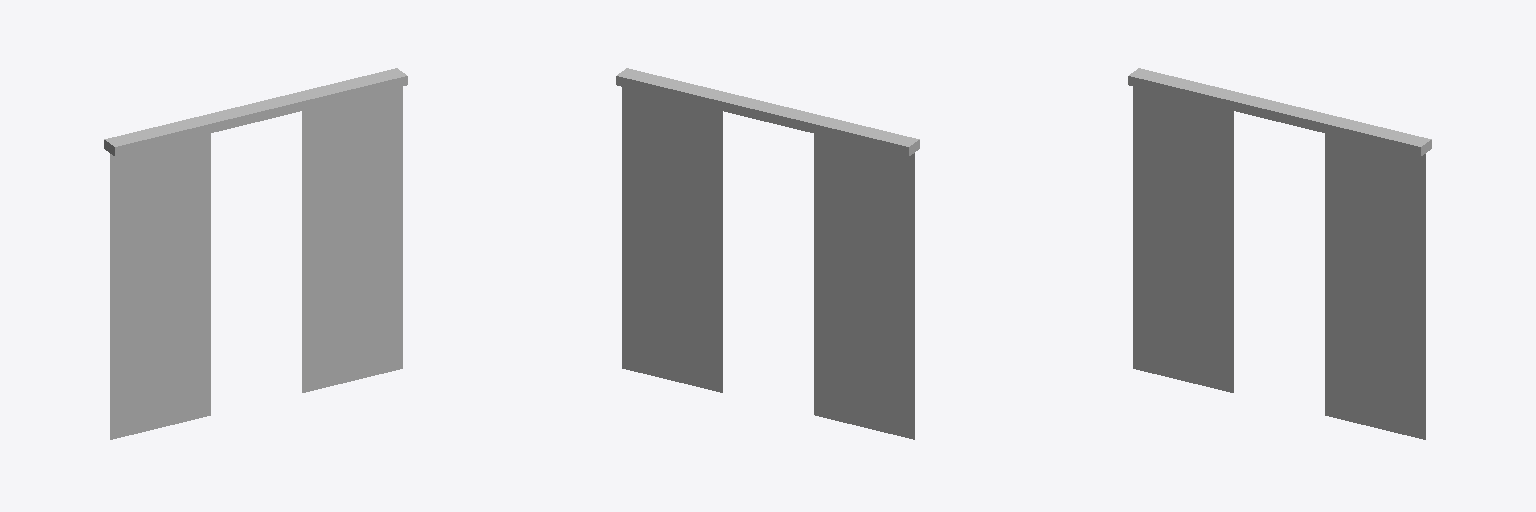
Rendered from cortina_vedante.obj.
3 views of the same model, side by side, from view 1: azimuth 30°, elevation 25°; view 2: azimuth 150°, elevation 25°; view 3: azimuth 330°, elevation 25° (orthographic).
Visible parts, largest first — view 1: cortina1, vara; view 2: cortina1, vara; view 3: cortina1, vara.
Part boxes in pixels (x1,y1,x2,y2): cortina1: (110, 87, 402, 439); vara: (104, 68, 407, 156); cortina1: (622, 87, 914, 439); vara: (616, 68, 919, 156); cortina1: (1133, 87, 1425, 439); vara: (1128, 68, 1431, 156).
Bounding box in the file's own units: 2 × 1.94 × 0.125.